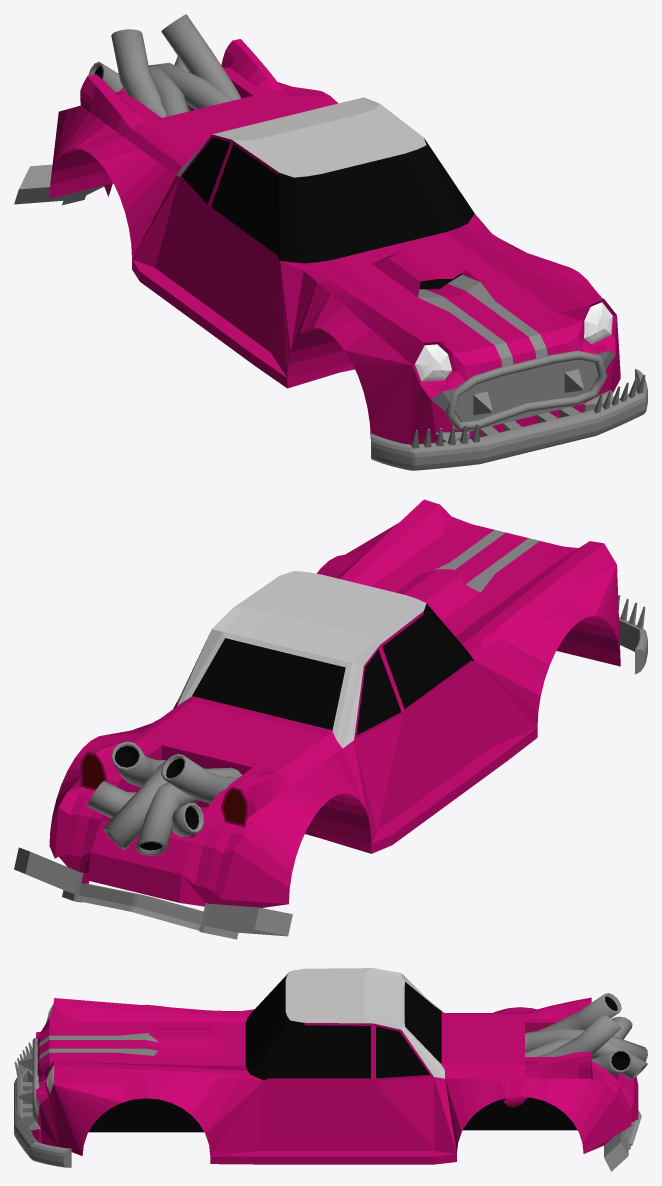
The model's file is monster_pink_body.obj.
3 renders of one model, top to bottom at view 1: azimuth 30°, elevation 25°; view 2: azimuth 150°, elevation 25°; view 3: azimuth 270°, elevation 25°, orthographic. The views are drawn at different scales.
Parts seen in each view (by area): view 1: Plane; view 2: Plane; view 3: Plane.
Part boxes in pixels (left/top/right/bottom): Plane: left=14, top=14, right=647, bottom=470; Plane: left=14, top=499, right=647, bottom=939; Plane: left=14, top=968, right=647, bottom=1171.
Bounding box in the file's own units: 5.49 × 3.39 × 14.34.
